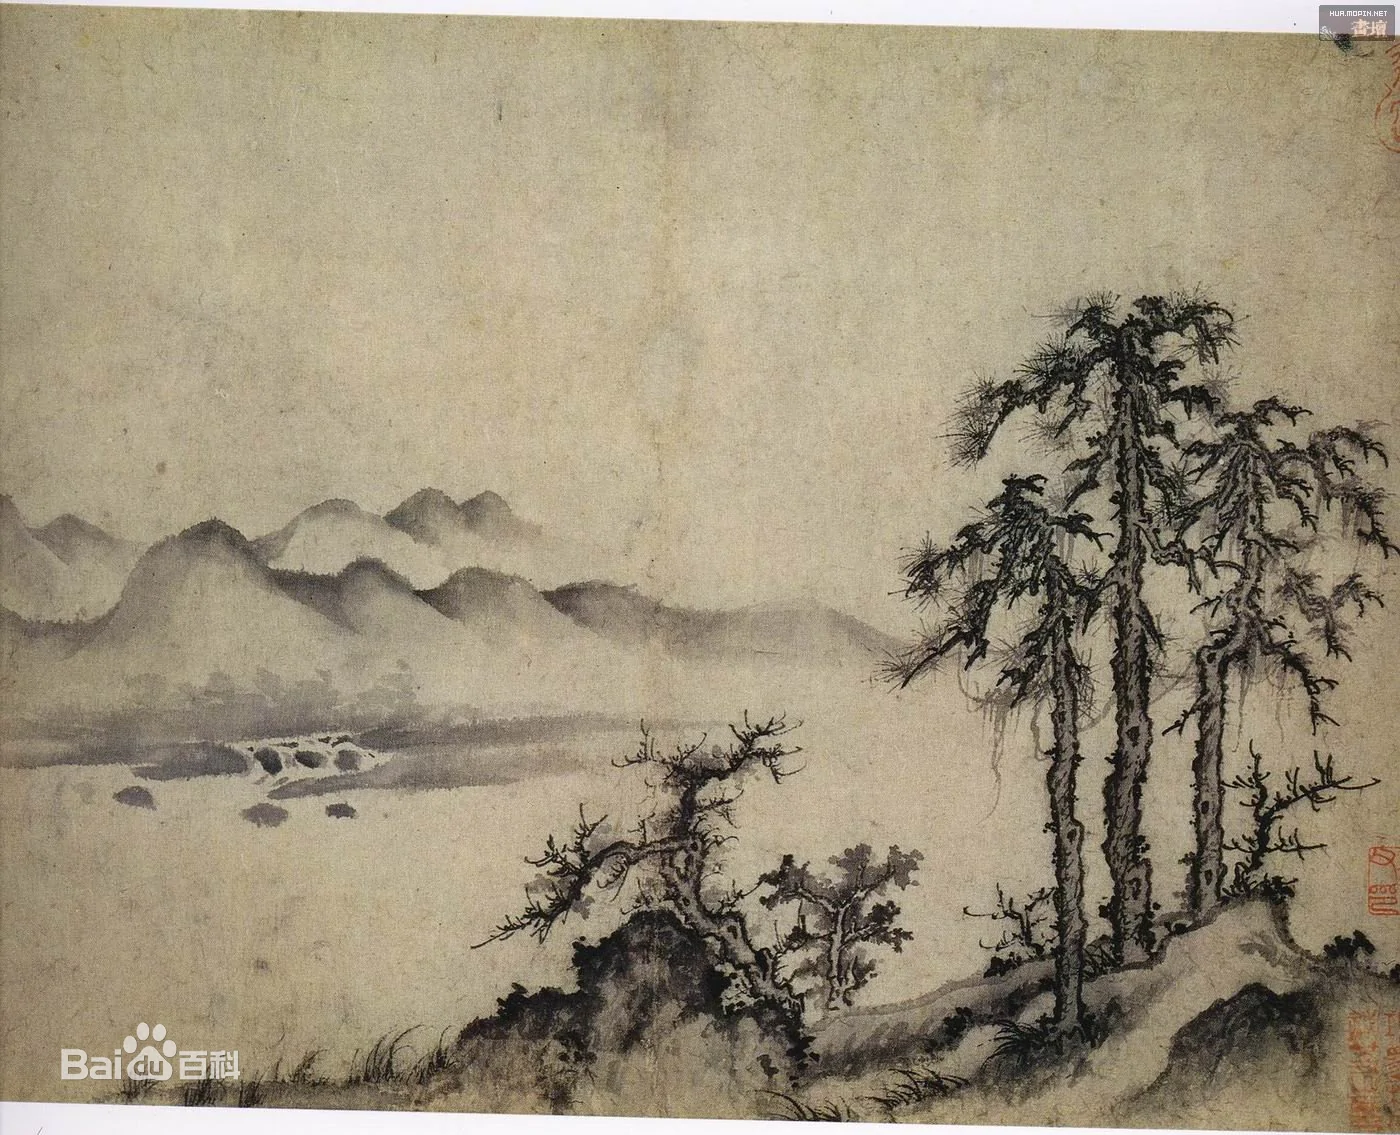grass: (120, 1015, 477, 1108)
hill: (10, 489, 868, 691)
rock: (484, 913, 829, 1122)
tree: (915, 246, 1380, 1032), (521, 738, 918, 1020)
